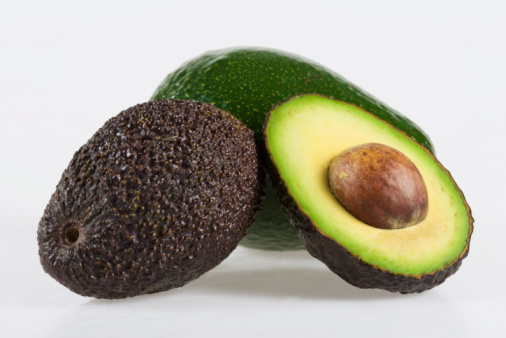fit_avocado: (33, 83, 260, 294)
